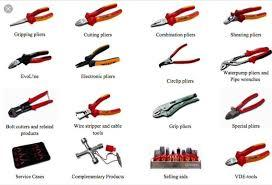pliers: (219, 43, 271, 71), (151, 91, 199, 118), (73, 1, 122, 26), (223, 91, 265, 120), (149, 3, 199, 27), (224, 141, 271, 166), (8, 5, 53, 27)
